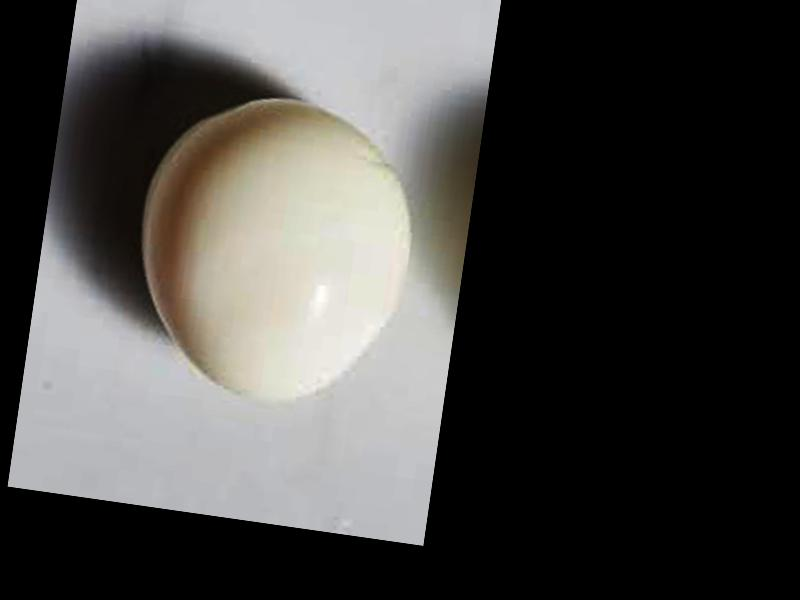Eggs: (120, 79, 428, 415)
